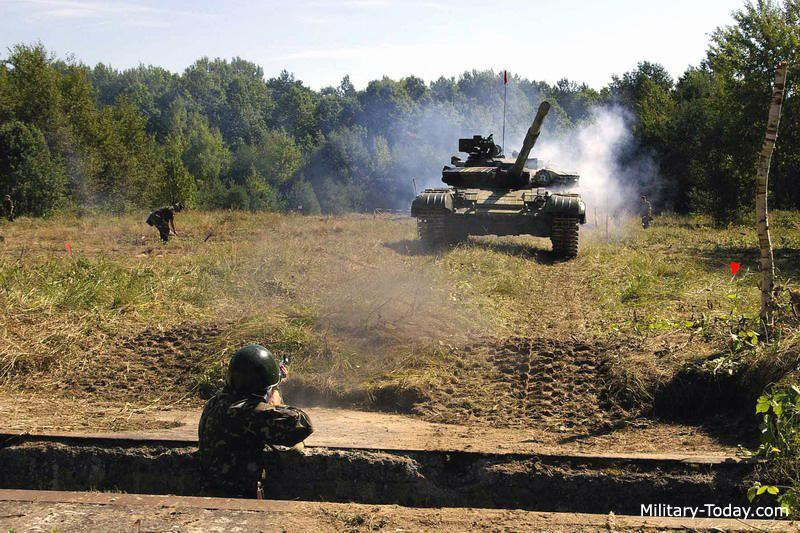person: (196, 342, 312, 497), (146, 201, 185, 243), (638, 194, 657, 236)
tank: (410, 100, 588, 263)
